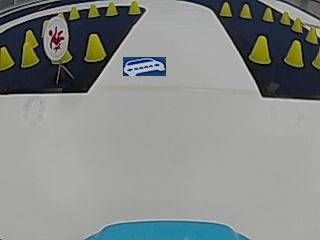cone: (249, 34, 272, 66), (84, 33, 106, 62), (284, 39, 304, 68), (20, 42, 37, 67), (0, 45, 13, 70), (305, 25, 317, 43), (219, 1, 232, 17), (105, 1, 118, 16), (240, 3, 252, 19), (87, 3, 99, 18), (68, 5, 80, 20), (262, 7, 274, 22), (128, 0, 140, 15), (291, 16, 302, 32), (280, 10, 290, 25)
tumble: (45, 20, 69, 57)
